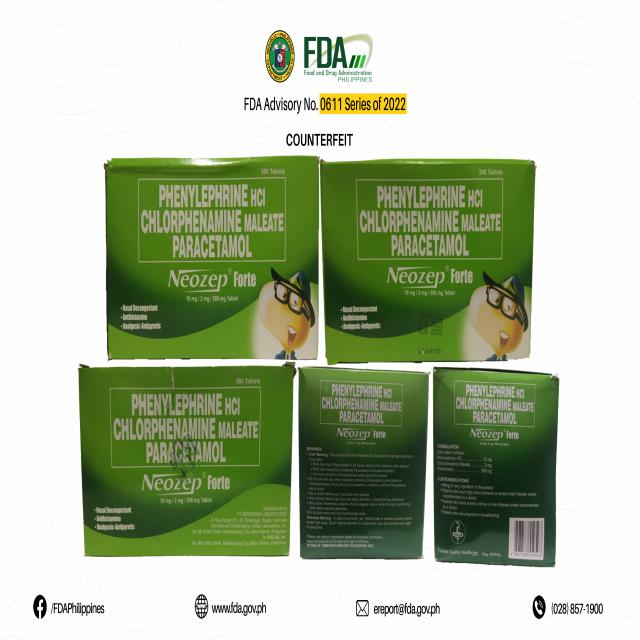counterfeit: (104, 151, 320, 366), (320, 151, 537, 360), (74, 364, 293, 560), (432, 364, 561, 564), (298, 362, 423, 566), (300, 599, 304, 602)
